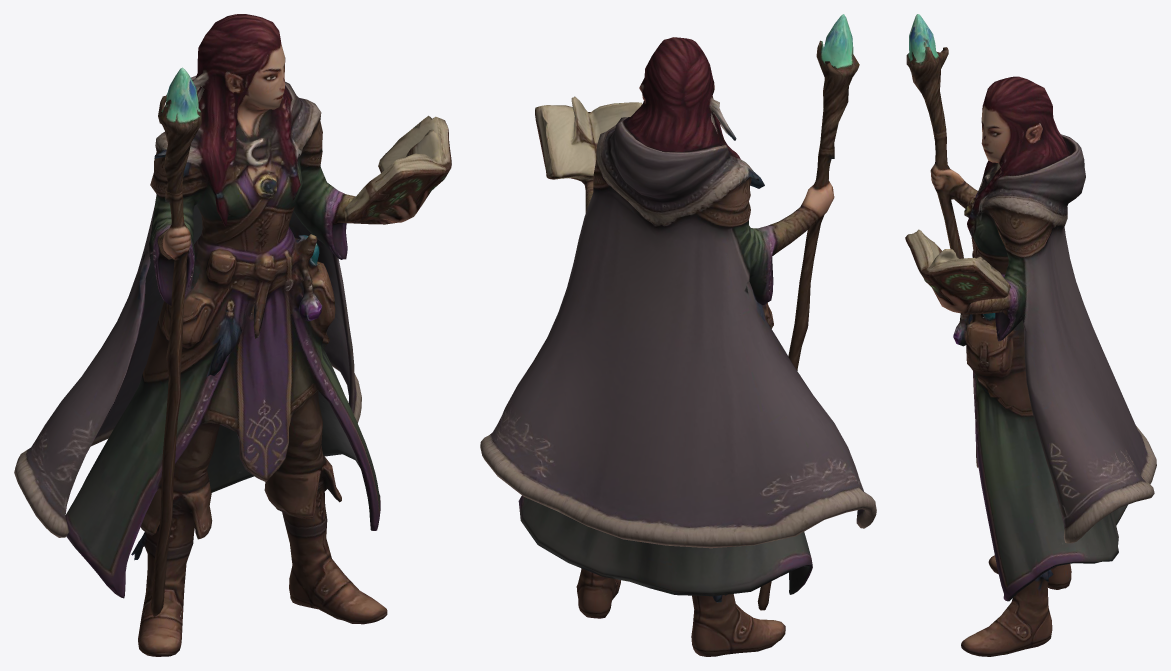
File: Bruxa.glb
The picture shows the model from 3 angles, left to right: view 1: azimuth 30°, elevation 25°; view 2: azimuth 150°, elevation 25°; view 3: azimuth 270°, elevation 25°; orthographic projection. The views are drawn at different scales.
Visible parts, largest first — view 1: tripo_node_e263cd2b-16d1-405c-bc0a-49dc810a9948; view 2: tripo_node_e263cd2b-16d1-405c-bc0a-49dc810a9948; view 3: tripo_node_e263cd2b-16d1-405c-bc0a-49dc810a9948.
Part boxes in pixels (x1,y1,x2,y2): tripo_node_e263cd2b-16d1-405c-bc0a-49dc810a9948: (14, 14, 451, 656); tripo_node_e263cd2b-16d1-405c-bc0a-49dc810a9948: (480, 14, 876, 656); tripo_node_e263cd2b-16d1-405c-bc0a-49dc810a9948: (905, 14, 1156, 656).
Bounding box in the file's own units: 0.6415 × 0.9938 × 0.4155.
Materials: 1 (1 with a texture image).
